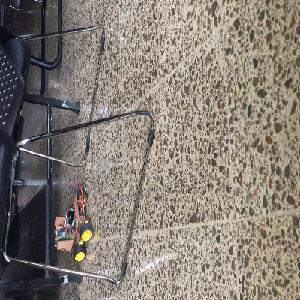Robot: (54, 188, 92, 261)
